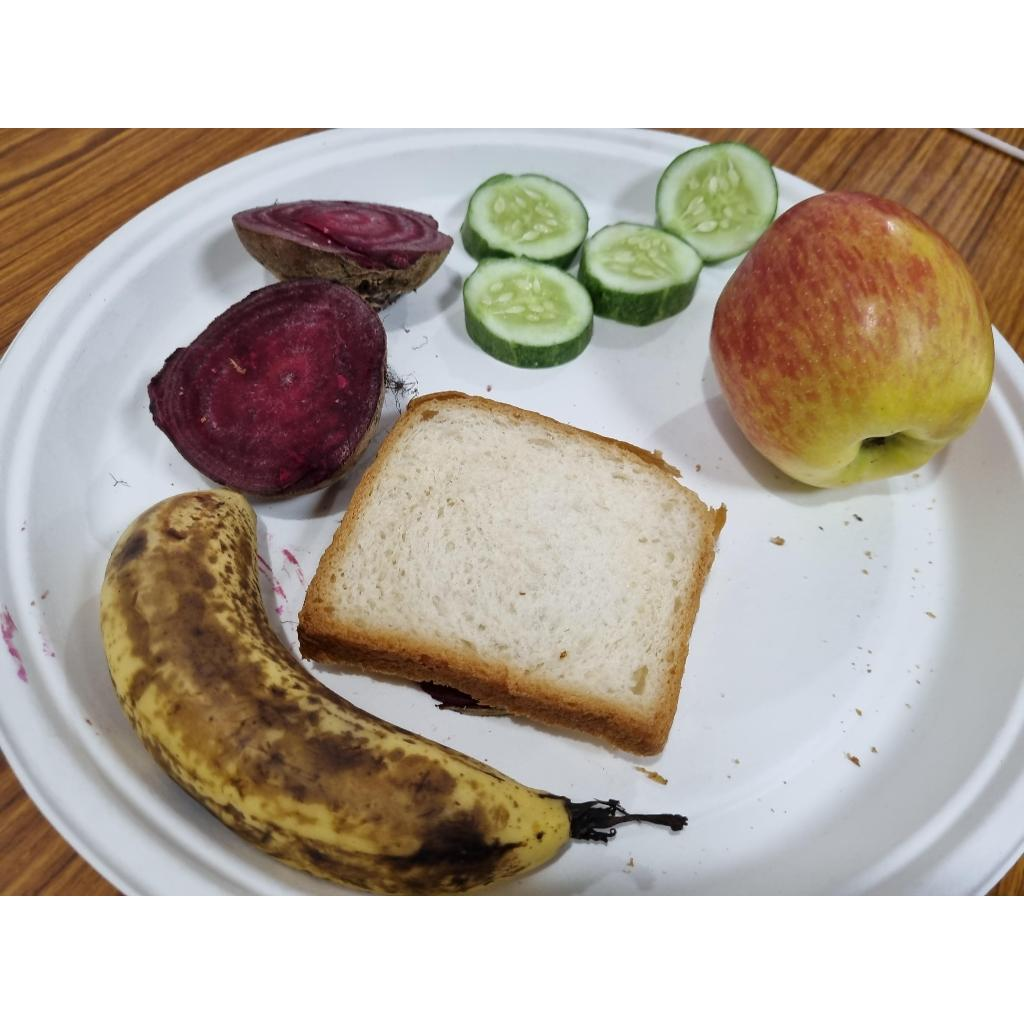apple: (709, 193, 998, 492)
banana: (98, 490, 574, 896)
cucumber: (650, 143, 776, 266), (463, 257, 597, 365), (457, 173, 593, 277), (577, 223, 705, 329)
